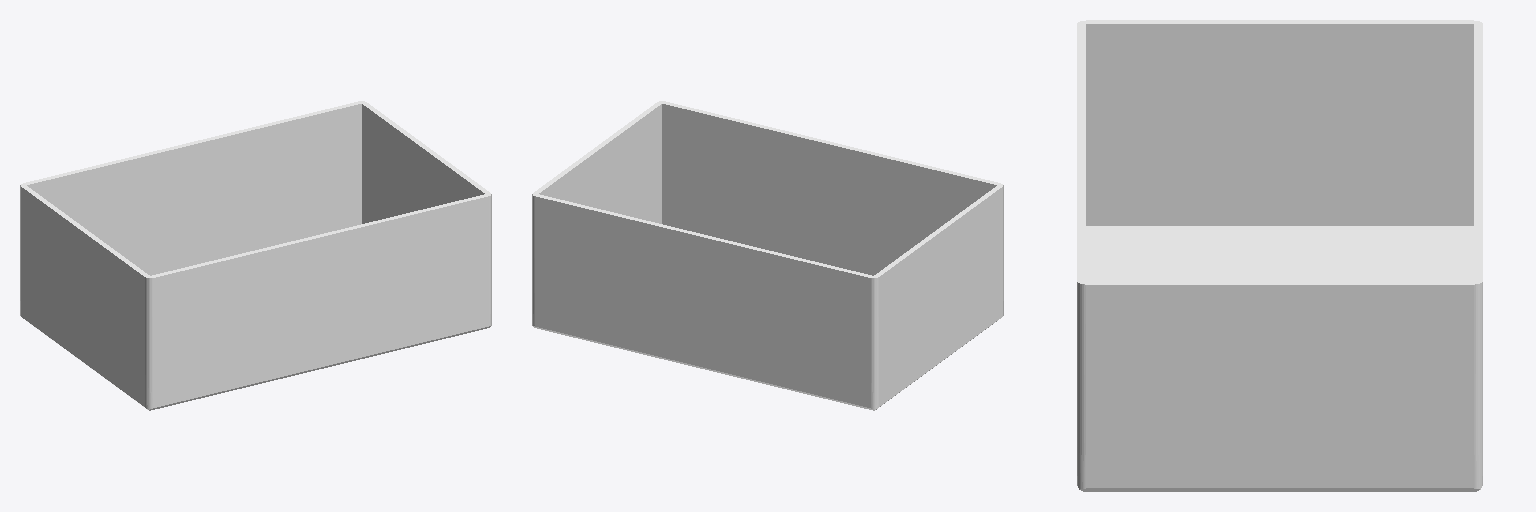
URDF robot description (tabletop):
<?xml version="1.0" ?>
<robot name="tabletop">
  <link name="base_link">

    <inertial>
      <origin rpy="0 0 0" xyz="0 0 0"/>
      <mass value="0.1" />
      <inertia ixx="1" ixy="0" ixz="0" iyy="1" iyz="0" izz="1"/>
    </inertial>
    
    <visual>
      <origin rpy="0 0 0" xyz="0 0 0"/>
      <geometry>
        <mesh filename="mesh/bin.obj" scale="1.0 1.0 1.0"/>
      </geometry>
      <material name="tray_material">
        <color rgba="1 1 1 1"/>
      </material>
    </visual>
    <collision>
      <origin rpy="0 0 0" xyz="0 0 0"/>
      <geometry>
        <mesh filename="mesh/bin.obj" scale="1.0 1.0 1.0"/>
      </geometry>
    </collision>
  </link>
</robot>

--- Facts derived from the render (not from the file) ---
3 views of the same robot in one strip: view 1: azimuth 30°, elevation 25°; view 2: azimuth 150°, elevation 25°; view 3: azimuth 270°, elevation 25° (orthographic).
Robot: tabletop — 1 links, 0 joints (none); root link base_link; default pose: every joint at zero.
Visible links, largest first — view 1: base_link; view 2: base_link; view 3: base_link.
Boxes of the visible links, bbox=[...] form: base_link: bbox=[20, 101, 491, 410]; base_link: bbox=[532, 101, 1003, 410]; base_link: bbox=[1077, 20, 1482, 491].
Bounding box of the posed robot: 0.2 × 0.13 × 0.074 m (x, y, z).
1 mesh visuals loaded from 1 distinct referenced files (1 OBJ).